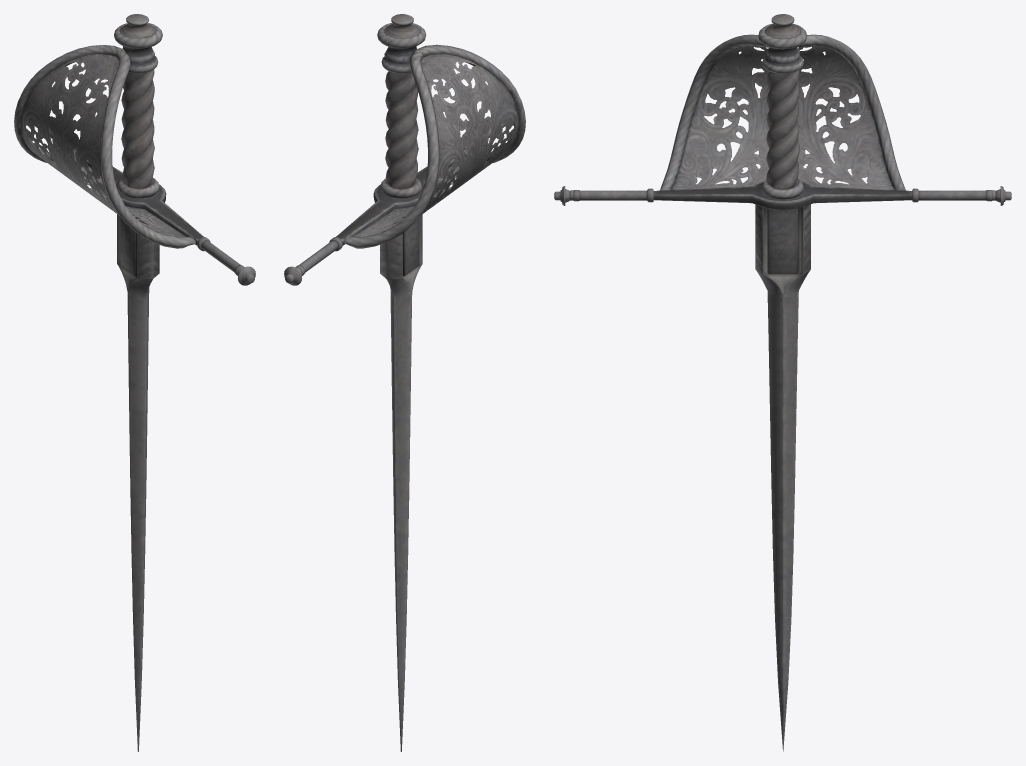
File: weapon-wp_a_0125.glb
3 views of the same model, side by side, from view 1: azimuth 30°, elevation 25°; view 2: azimuth 150°, elevation 25°; view 3: azimuth 270°, elevation 25° (orthographic).
Visible parts, largest first — view 1: wp_a_0125_mesh; view 2: wp_a_0125_mesh; view 3: wp_a_0125_mesh.
Part boxes in pixels (<box>): wp_a_0125_mesh: <box>14,14,255,751</box>; wp_a_0125_mesh: <box>284,14,525,751</box>; wp_a_0125_mesh: <box>554,14,1011,751</box>.
Bounding box in the file's own units: 0.1083 × 0.742 × 0.42.
2 materials, 2 textured.
